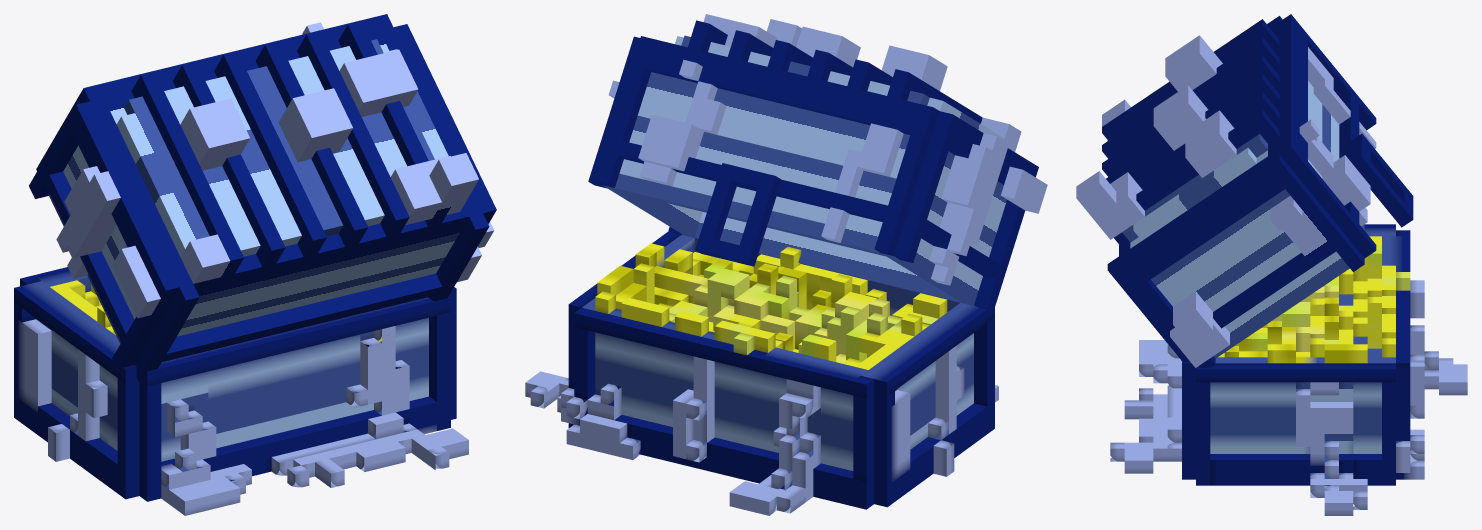
The model's file is cofre_hielo.dae.
3 renders of one model, left to right at view 1: azimuth 30°, elevation 25°; view 2: azimuth 150°, elevation 25°; view 3: azimuth 270°, elevation 25°, orthographic. The views are drawn at different scales.
Visible parts, largest first — view 1: Node (1)-local, Node-local; view 2: Node-local, Node (1)-local; view 3: Node (1)-local, Node-local.
Boxes of the visible parts, <box> form: Node (1)-local: <box>29,14,496,381</box>; Node-local: <box>14,267,468,515</box>; Node-local: <box>525,231,998,515</box>; Node (1)-local: <box>588,14,1047,311</box>; Node (1)-local: <box>1076,14,1413,367</box>; Node-local: <box>1110,224,1467,515</box>.
Bounding box in the file's own units: 30.21 × 26.63 × 27.38.
2 materials, 2 textured.
